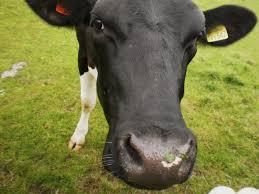cow: (25, 0, 257, 190)
